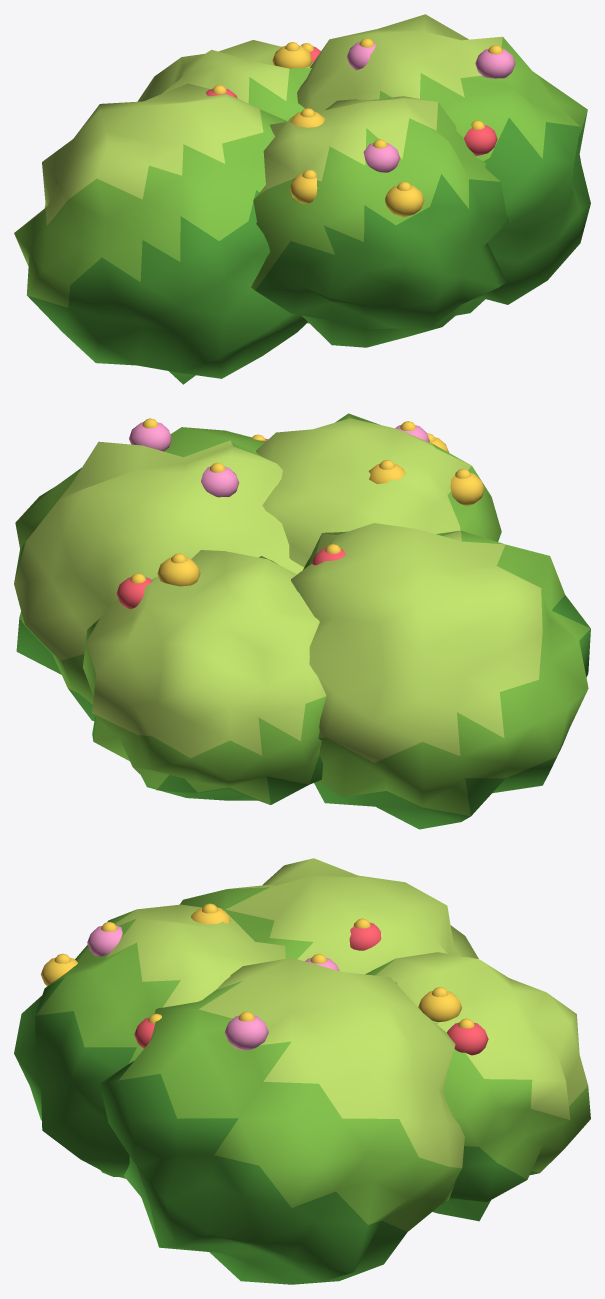
The model's file is bush_flowers.obj.
3 renders of one model, top to bottom at view 1: azimuth 30°, elevation 25°; view 2: azimuth 150°, elevation 25°; view 3: azimuth 270°, elevation 25°, orthographic. The views are drawn at different scales.
Parts seen in each view (by area): view 1: bush_flowers_leaf_dark, bush_flowers_leaf_mid, bush_flowers_leaf_light, bush_flowers_flower_yellow, bush_flowers_flower_pink, bush_flowers_flower_red; view 2: bush_flowers_leaf_light, bush_flowers_leaf_mid, bush_flowers_leaf_dark, bush_flowers_flower_yellow, bush_flowers_flower_pink, bush_flowers_flower_red; view 3: bush_flowers_leaf_light, bush_flowers_leaf_mid, bush_flowers_leaf_dark, bush_flowers_flower_yellow, bush_flowers_flower_pink, bush_flowers_flower_red.
Part boxes in pixels (bbox=[...]): bush_flowers_leaf_dark: bbox=[27, 111, 590, 384]; bush_flowers_leaf_mid: bbox=[14, 37, 587, 307]; bush_flowers_leaf_light: bbox=[17, 14, 502, 230]; bush_flowers_flower_yellow: bbox=[212, 38, 502, 217]; bush_flowers_flower_pink: bbox=[347, 42, 515, 172]; bush_flowers_flower_red: bbox=[206, 46, 497, 155]; bush_flowers_leaf_light: bbox=[14, 418, 542, 762]; bush_flowers_leaf_mid: bbox=[14, 413, 590, 816]; bush_flowers_leaf_dark: bbox=[16, 595, 590, 829]; bush_flowers_flower_yellow: bbox=[130, 418, 484, 586]; bush_flowers_flower_pink: bbox=[129, 422, 429, 497]; bush_flowers_flower_red: bbox=[116, 438, 345, 608]; bush_flowers_leaf_light: bbox=[105, 858, 587, 1167]; bush_flowers_leaf_mid: bbox=[35, 887, 590, 1231]; bush_flowers_leaf_dark: bbox=[14, 977, 539, 1284]; bush_flowers_flower_yellow: bbox=[40, 903, 474, 1028]; bush_flowers_flower_pink: bbox=[87, 926, 339, 1050]; bush_flowers_flower_red: bbox=[134, 922, 488, 1055].
Size of the model in its own units: 1.5 by 0.7561 by 1.3.
